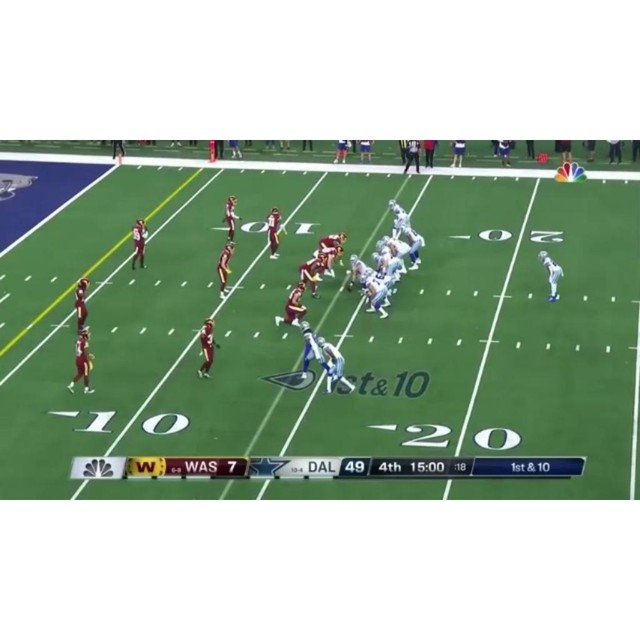american-football-player: (318, 336, 356, 394), (66, 328, 94, 395), (296, 322, 329, 377), (358, 272, 394, 319), (274, 281, 308, 329), (395, 221, 426, 270), (196, 318, 218, 380), (538, 249, 564, 301), (299, 253, 326, 299), (345, 253, 375, 293), (216, 241, 236, 298), (383, 236, 412, 271), (316, 244, 344, 280), (388, 198, 410, 240), (266, 206, 283, 259), (73, 278, 90, 330), (131, 218, 148, 268), (224, 195, 239, 242), (319, 233, 347, 254)
referee: (402, 140, 421, 172)
